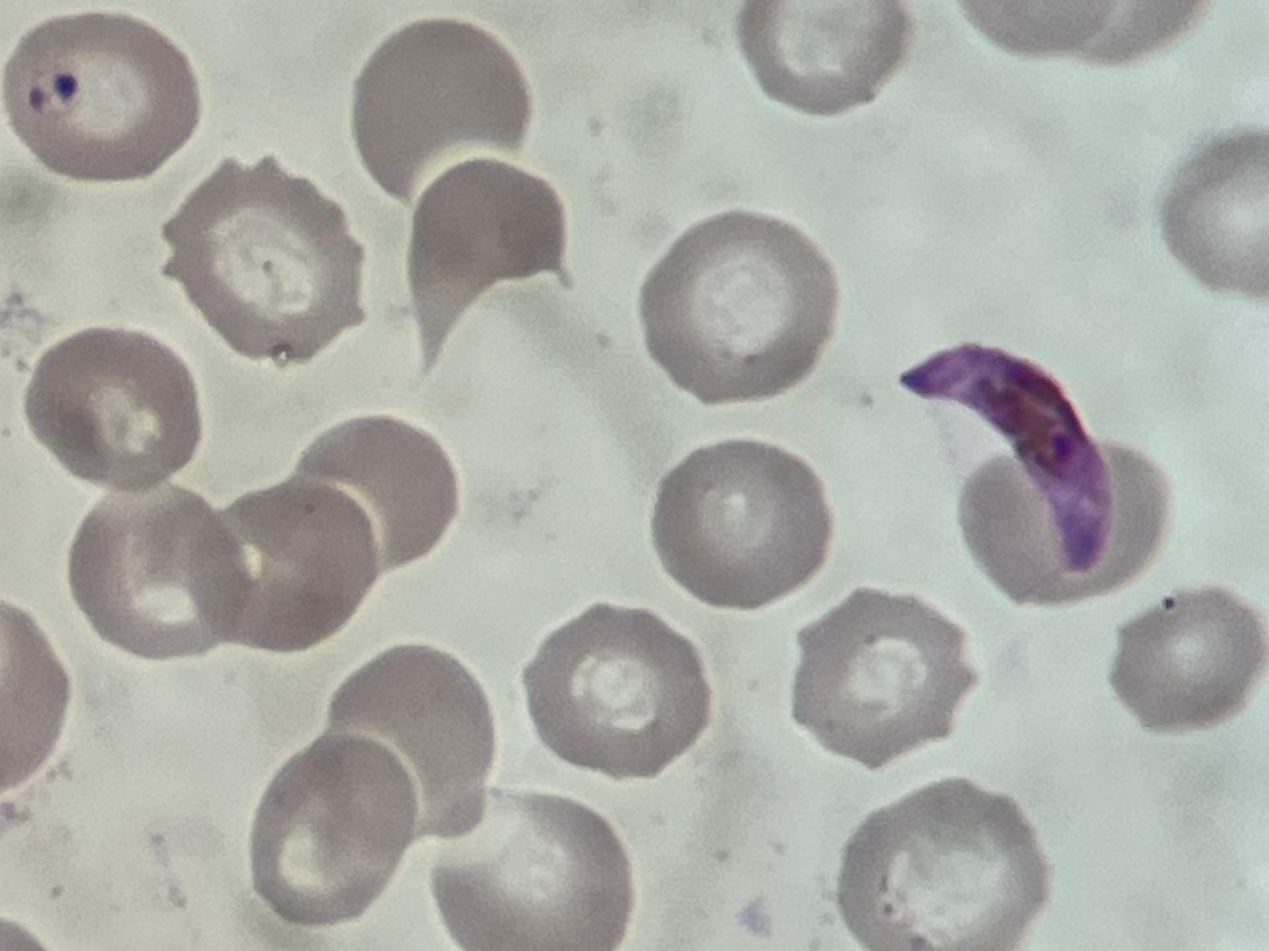Infected: (897, 344, 1106, 576)
Uninfected: (157, 152, 370, 362), (641, 211, 837, 406), (406, 157, 571, 377), (838, 780, 1048, 951), (522, 600, 715, 781), (246, 727, 418, 928), (958, 440, 1165, 605), (187, 476, 379, 653), (790, 590, 977, 771), (352, 17, 531, 206), (0, 12, 200, 181), (330, 641, 496, 837), (430, 793, 632, 951), (654, 441, 834, 612), (25, 327, 201, 496), (68, 489, 242, 658), (292, 415, 459, 576), (1112, 587, 1269, 735), (735, 0, 912, 119), (1158, 129, 1269, 300)
